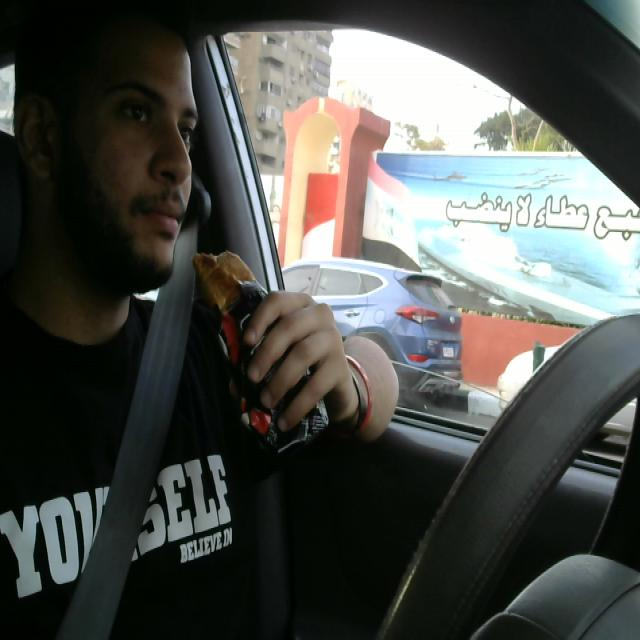eating: (194, 235, 334, 466)
